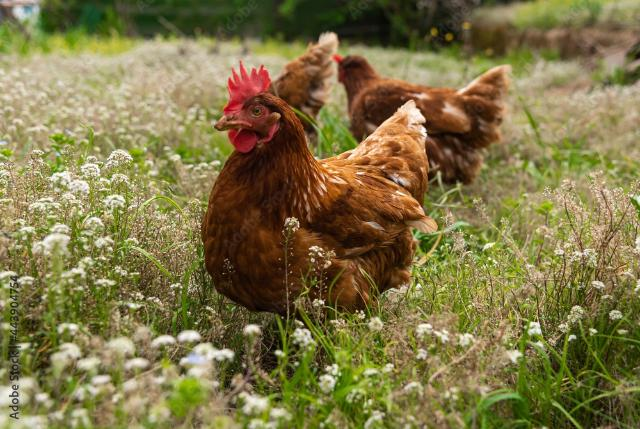Chicken: (201, 60, 439, 315), (334, 52, 513, 186), (273, 31, 339, 146)
